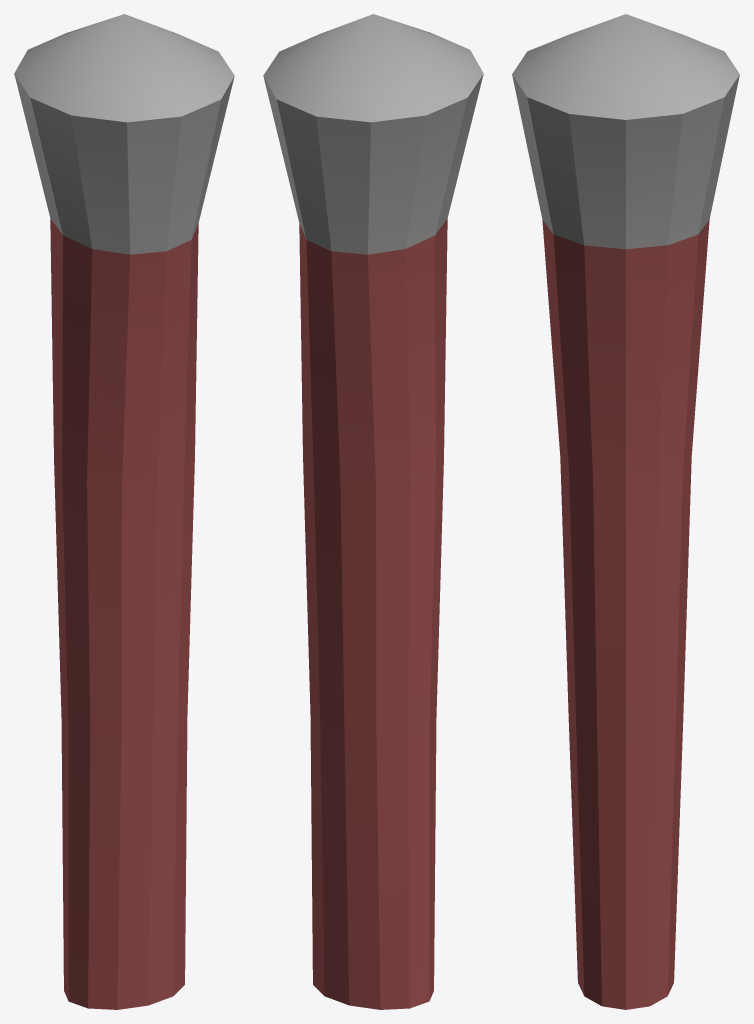
The model's file is Torch.fbx.
The picture shows the model from 3 angles, left to right: view 1: azimuth 30°, elevation 25°; view 2: azimuth 150°, elevation 25°; view 3: azimuth 270°, elevation 25°; orthographic projection.
Visible parts, largest first — view 1: pCylinder1; view 2: pCylinder1; view 3: pCylinder1.
Part boxes in pixels (x1,y1,x2,y2): pCylinder1: (14, 14, 234, 1009); pCylinder1: (263, 14, 483, 1009); pCylinder1: (512, 14, 739, 1009).
Bounding box in the file's own units: 0.0647 × 0.3191 × 0.068.
